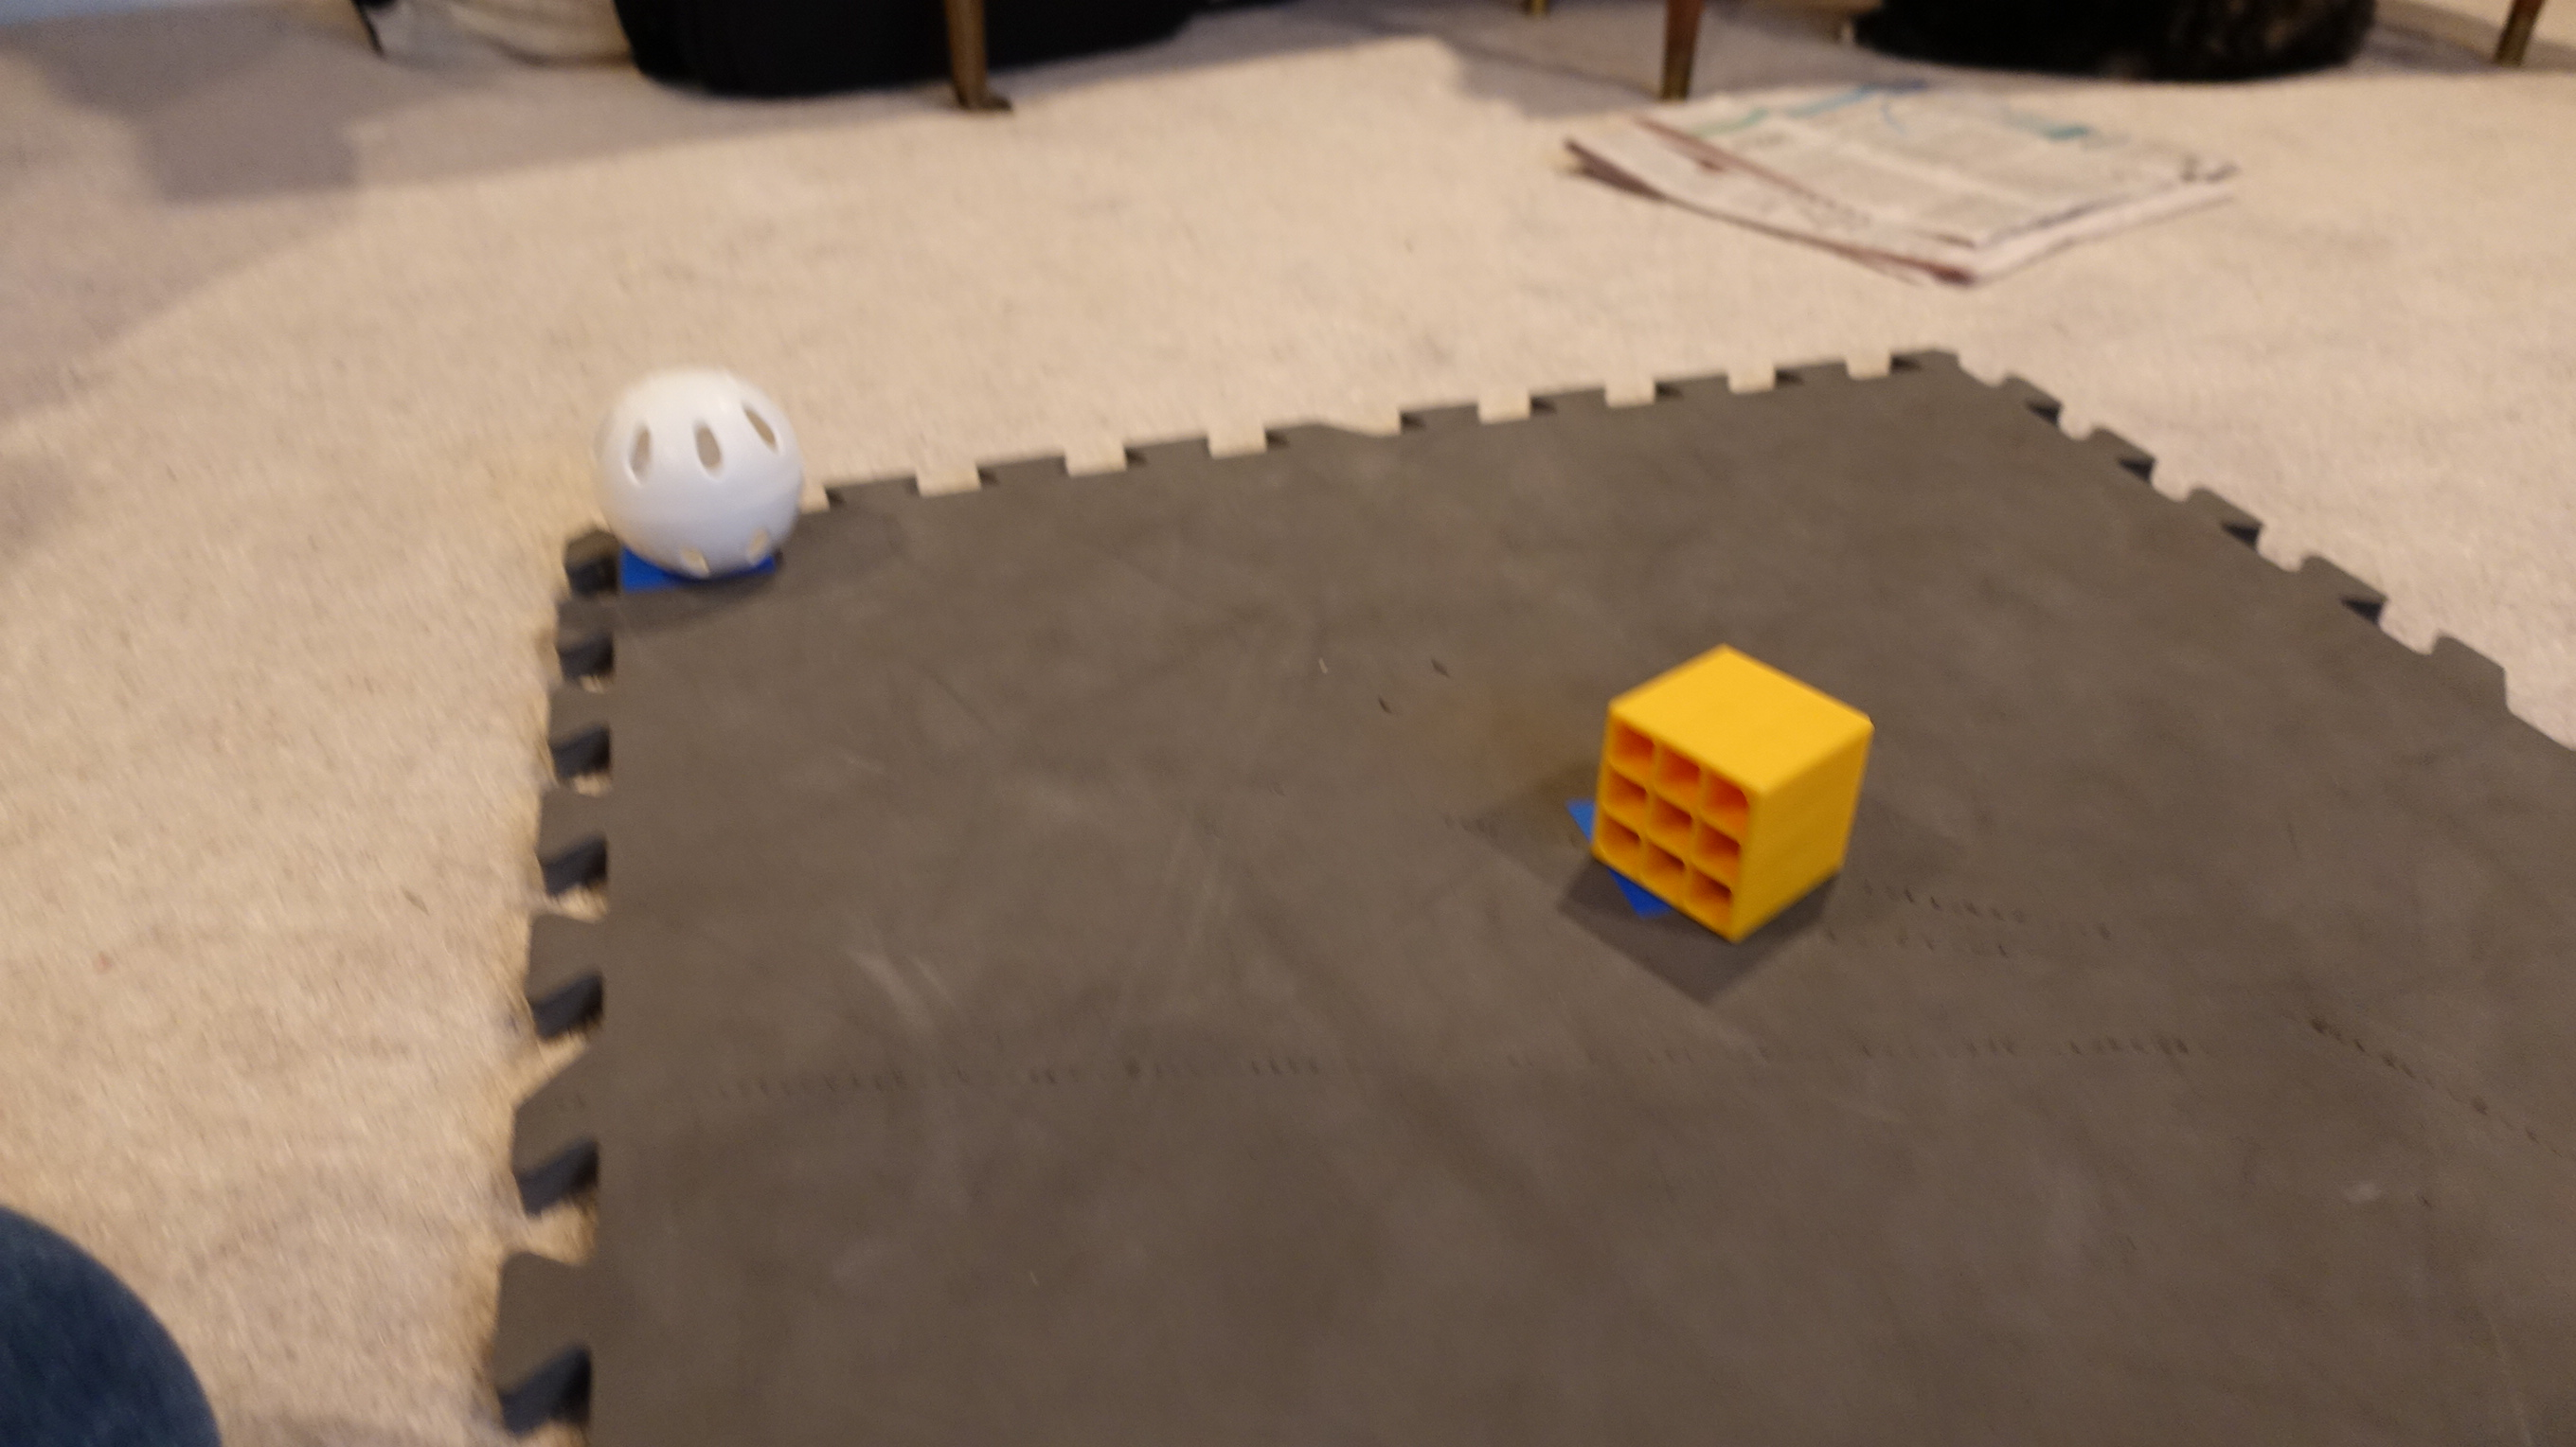gold: (1583, 614, 1886, 946)
silver: (577, 357, 817, 580)
